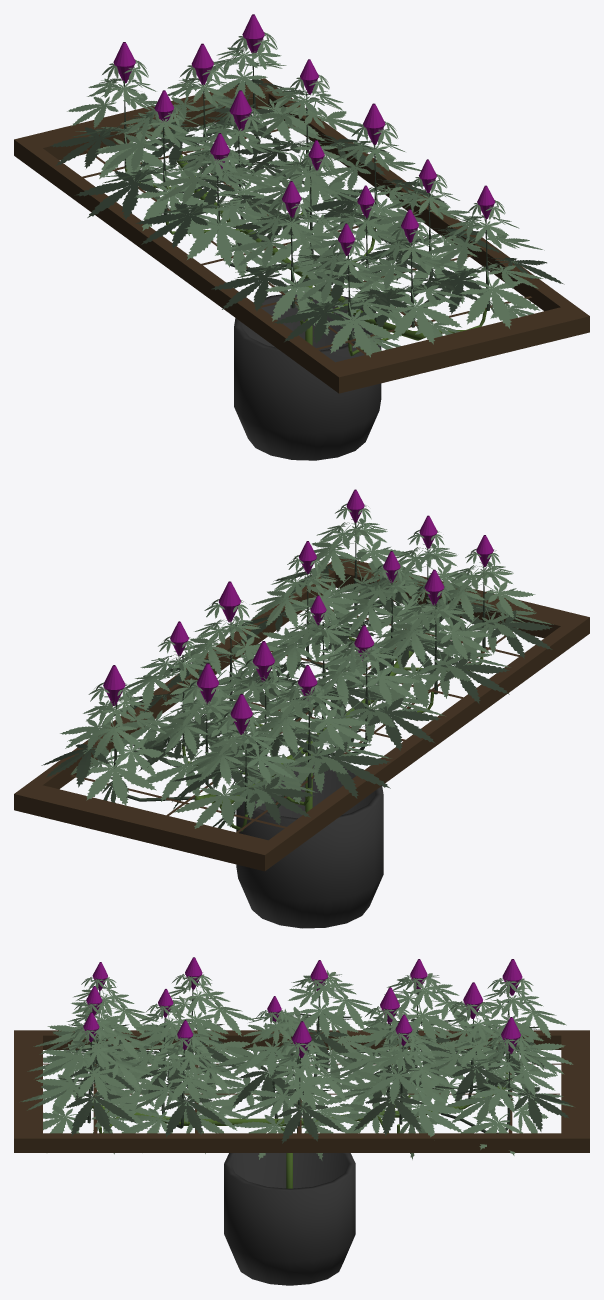
The model's file is scrognolight.glb.
3 renders of one model, top to bottom at view 1: azimuth 30°, elevation 25°; view 2: azimuth 150°, elevation 25°; view 3: azimuth 270°, elevation 25°, orthographic. The views are drawn at different scales.
Visible parts, largest first — view 1: Cylinder.034; view 2: Cylinder.034; view 3: Cylinder.034.
Boxes of the visible parts, x1,y1,x2,y2 form: Cylinder.034: [14, 14, 589, 460]; Cylinder.034: [14, 489, 589, 928]; Cylinder.034: [14, 957, 589, 1285].
Size of the model in its own units: 4.54 by 4.69 by 8.74.
